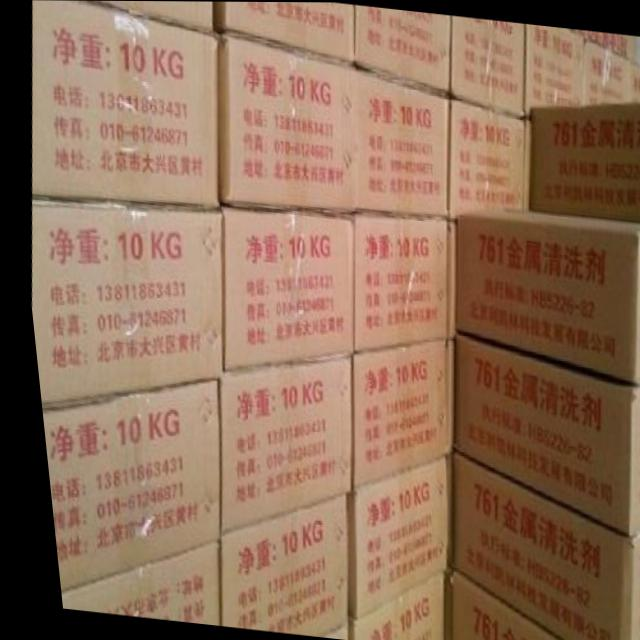box: (444, 330, 640, 537), (25, 198, 217, 406), (27, 0, 218, 207), (440, 450, 640, 640), (33, 379, 210, 592), (447, 210, 640, 380), (214, 34, 353, 215), (209, 356, 343, 534), (214, 204, 349, 370), (208, 494, 336, 635), (335, 455, 437, 618), (348, 67, 447, 218), (341, 339, 438, 493), (526, 101, 640, 222), (346, 211, 442, 351), (48, 541, 207, 623), (443, 96, 521, 218), (213, 1, 354, 64), (353, 5, 450, 96), (448, 14, 524, 118), (438, 569, 549, 640), (334, 570, 431, 640), (521, 23, 583, 118), (87, 1, 213, 34), (581, 38, 627, 103), (627, 58, 640, 100), (312, 623, 334, 637)
